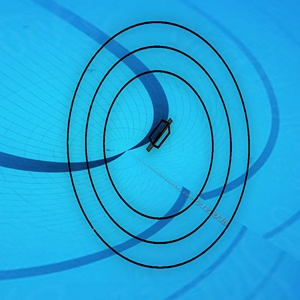circle: (66, 18, 252, 273)
submarine: (149, 118, 172, 155)
